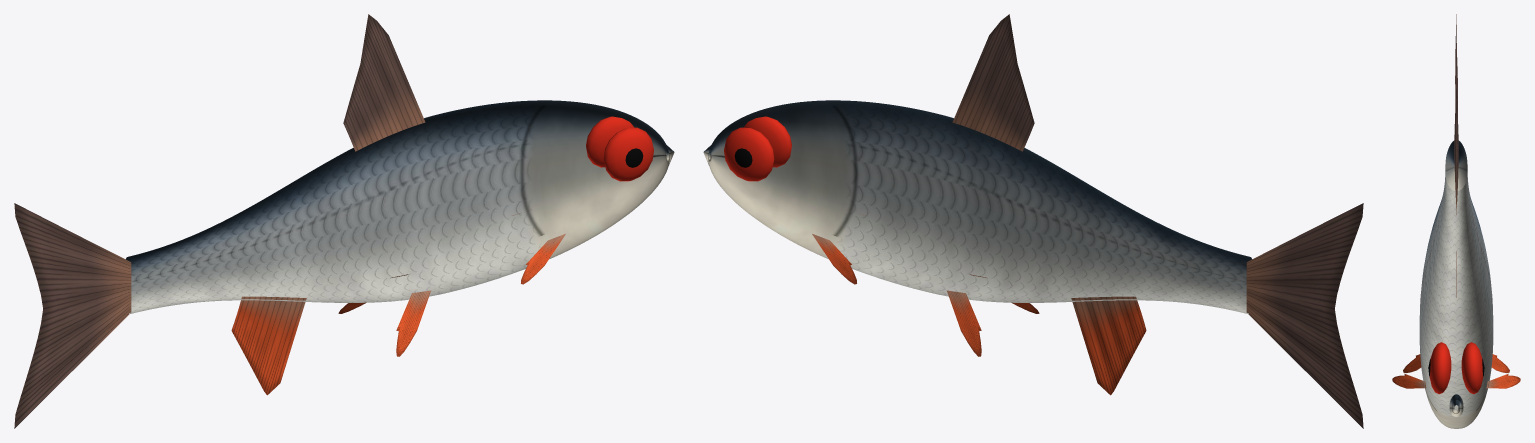
The model's file is fish_roach.gltf.
The picture shows the model from 3 angles, left to right: view 1: azimuth 30°, elevation 25°; view 2: azimuth 150°, elevation 25°; view 3: azimuth 270°, elevation 25°; orthographic projection. The views are drawn at different scales.
Visible parts, largest first — view 1: fish_roach; view 2: fish_roach; view 3: fish_roach.
Boxes of the visible parts, <box> form: fish_roach: <box>14,14,674,428</box>; fish_roach: <box>703,14,1363,428</box>; fish_roach: <box>1392,14,1520,428</box>.
Size of the model in its own units: 0.2179 by 0.1126 by 0.0403.
6 materials, 4 textured.
